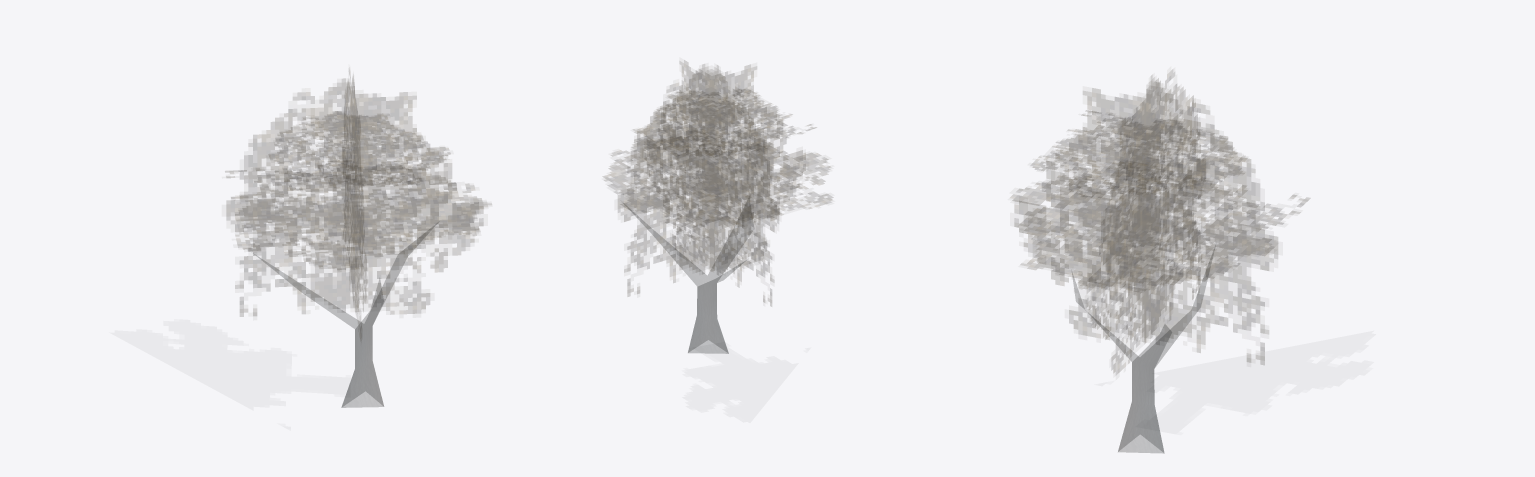
The model's file is ARV3.preview.glb.
3 renders of one model, left to right at view 1: azimuth 30°, elevation 25°; view 2: azimuth 150°, elevation 25°; view 3: azimuth 270°, elevation 25°, orthographic. The views are drawn at different scales.
Parts seen in each view (by area): view 1: obj_104f0, obj_108c0; view 2: obj_104f0, obj_108c0; view 3: obj_104f0, obj_108c0.
Part boxes in pixels (box(x1,y1,x2,y2)): obj_104f0: box(225, 69, 491, 338); obj_108c0: box(257, 225, 435, 407); obj_104f0: box(603, 60, 832, 306); obj_108c0: box(630, 199, 753, 353); obj_104f0: box(1010, 70, 1309, 374); obj_108c0: box(1072, 249, 1214, 453).
Size of the model in its own units: 36.17 by 33.93 by 49.76.
3 materials, 3 textured.
